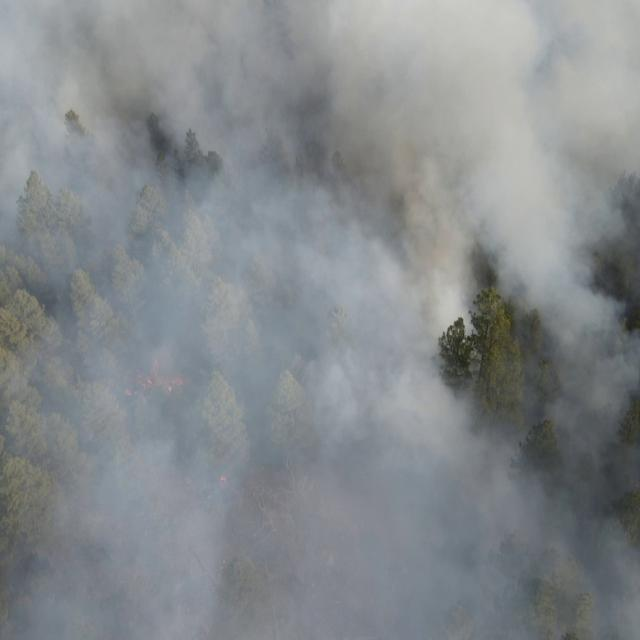fire: (123, 353, 186, 401), (215, 474, 230, 488)
smoke: (0, 0, 640, 640)
